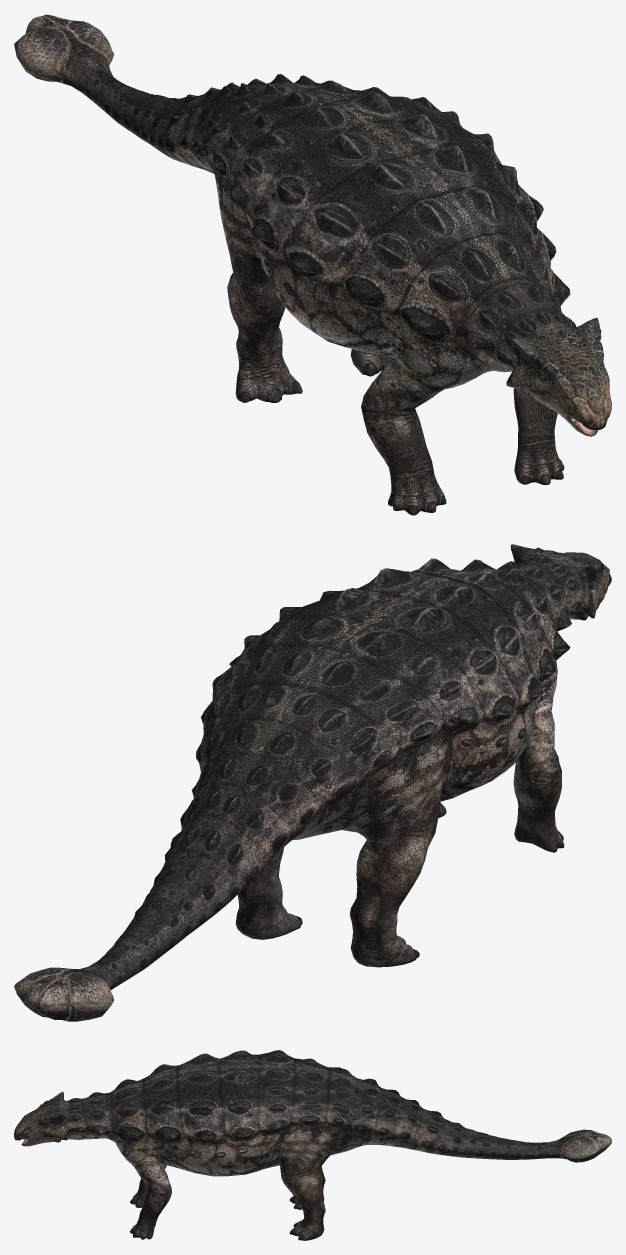
The model's file is hd_ankylosaurus.glb.
3 views of the same model, one above another, from view 1: azimuth 30°, elevation 25°; view 2: azimuth 150°, elevation 25°; view 3: azimuth 270°, elevation 25° (orthographic). The views are drawn at different scales.
Parts seen in each view (by area): view 1: 40_AnkylosaurusMesh_1_0_0_2; view 2: 40_AnkylosaurusMesh_1_0_0_2; view 3: 40_AnkylosaurusMesh_1_0_0_2.
Part boxes in pixels (<box>): 40_AnkylosaurusMesh_1_0_0_2: <box>14,14,611,515</box>; 40_AnkylosaurusMesh_1_0_0_2: <box>14,544,611,1021</box>; 40_AnkylosaurusMesh_1_0_0_2: <box>14,1050,611,1240</box>.
Size of the model in its own units: 2.51 by 2.76 by 9.44.
Materials: 1 (1 with a texture image).
